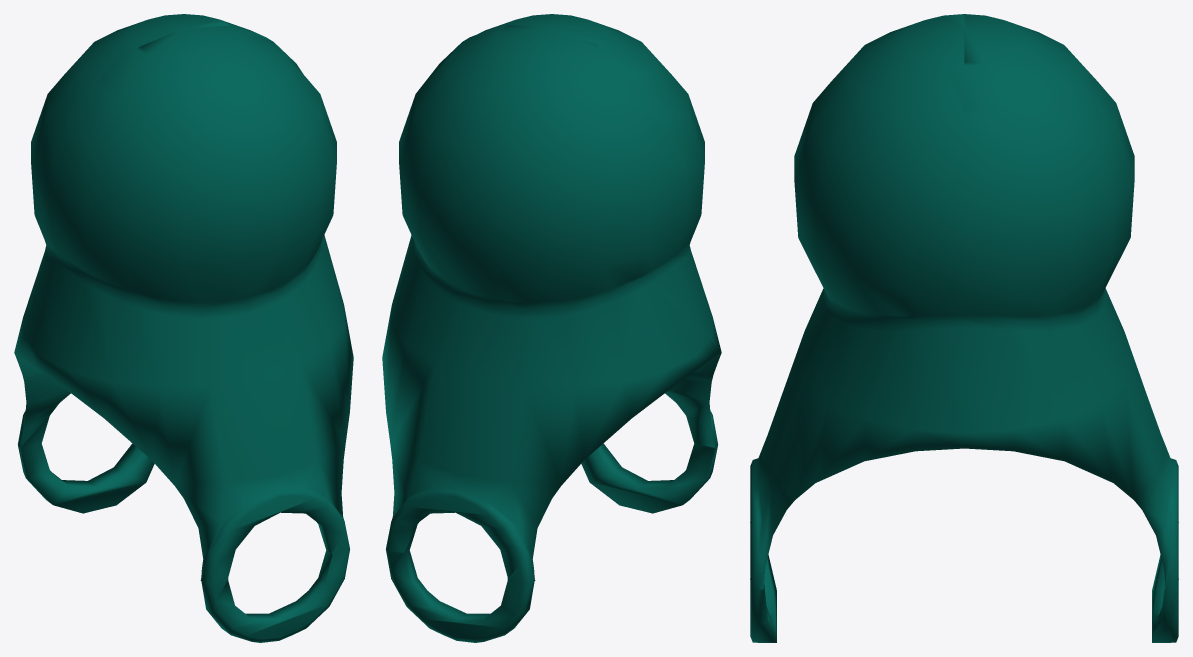
Rendered from n_hals_mitte.obj.
3 renders of one model, left to right at view 1: azimuth 30°, elevation 25°; view 2: azimuth 150°, elevation 25°; view 3: azimuth 270°, elevation 25°, orthographic. The views are drawn at different scales.
Bounding box in the file's own units: 0.14 × 0.2491 × 0.1603.
